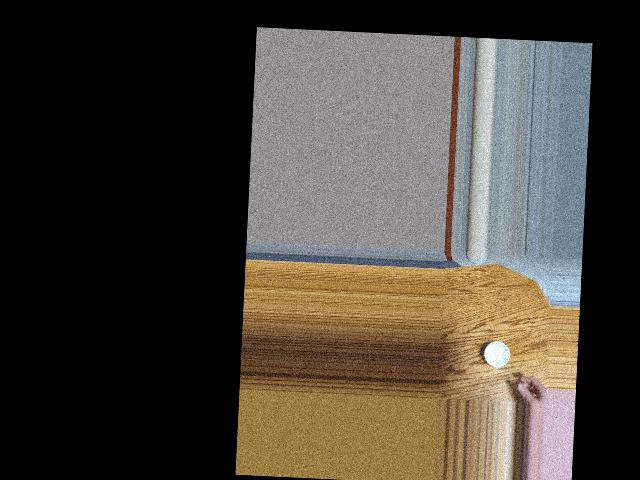cotage: (484, 339, 514, 373)
